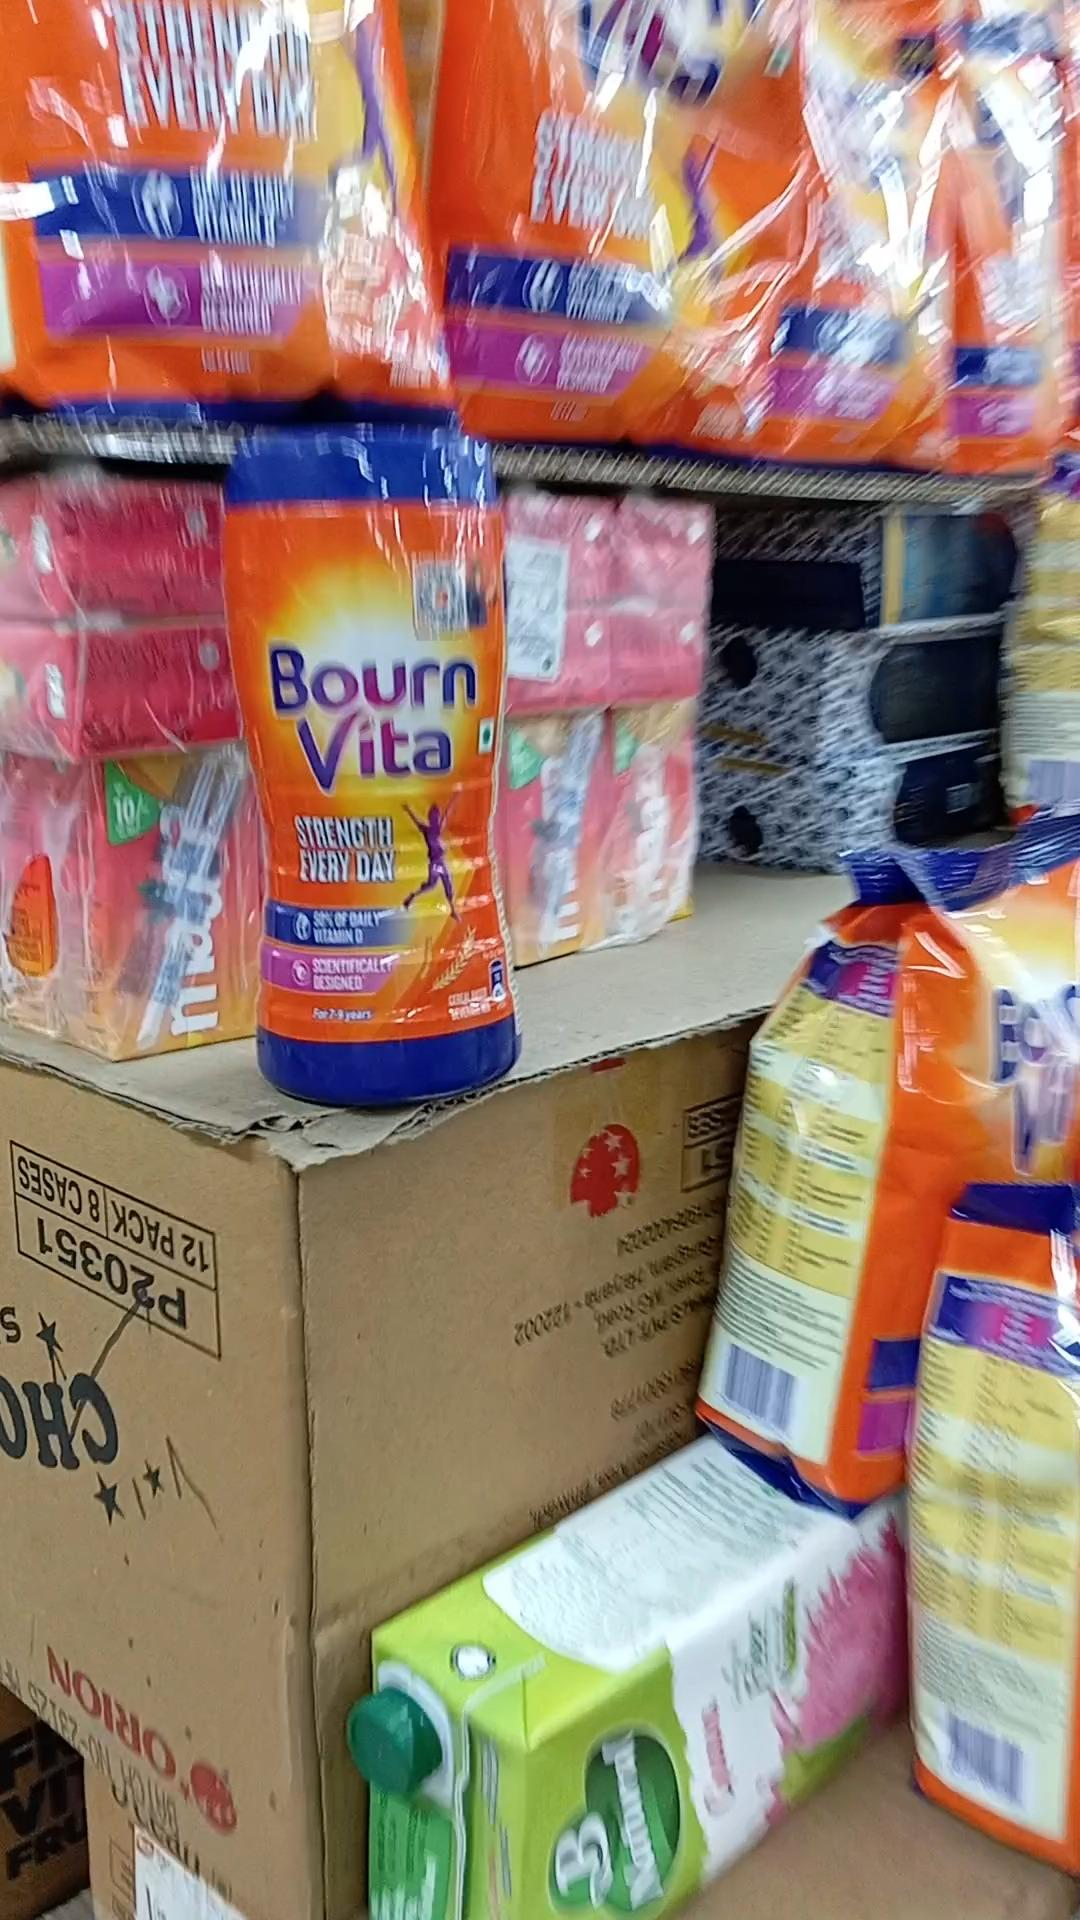BOURN_VITA_200_G_JAR: (232, 415, 516, 1113)
